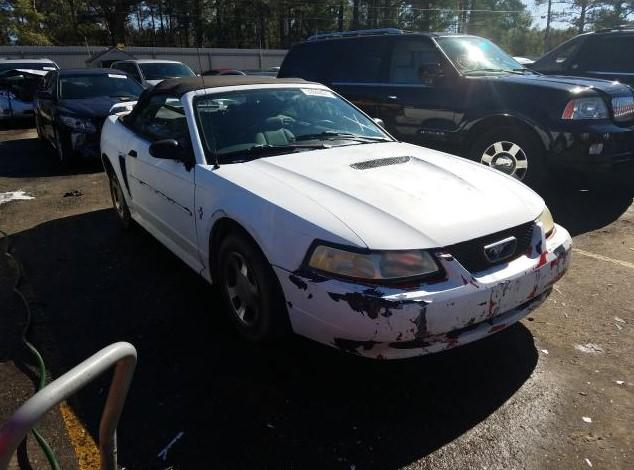Back-wheel: (107, 167, 140, 231)
Fender: (194, 161, 369, 284), (400, 141, 545, 200)
Front-bumper: (271, 221, 574, 361)
Front-door: (125, 92, 205, 277)
Front-wheel: (218, 231, 292, 342)
Front-window: (135, 93, 194, 157)
Grille: (442, 221, 535, 273)
Headlight: (308, 245, 439, 281), (534, 205, 555, 239)
Hood: (242, 142, 546, 252)
Mirror: (148, 138, 197, 173), (372, 117, 386, 130)
Quarter-panel: (100, 116, 136, 214)
Roof: (149, 75, 324, 93)
Trunk: (109, 101, 138, 119)
Windshield: (192, 87, 397, 165)
